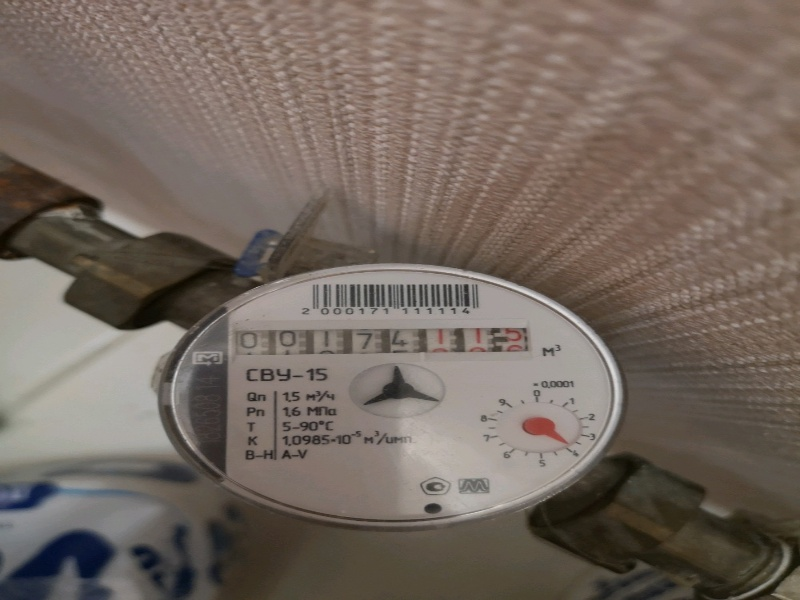meter: (228, 318, 532, 360)
